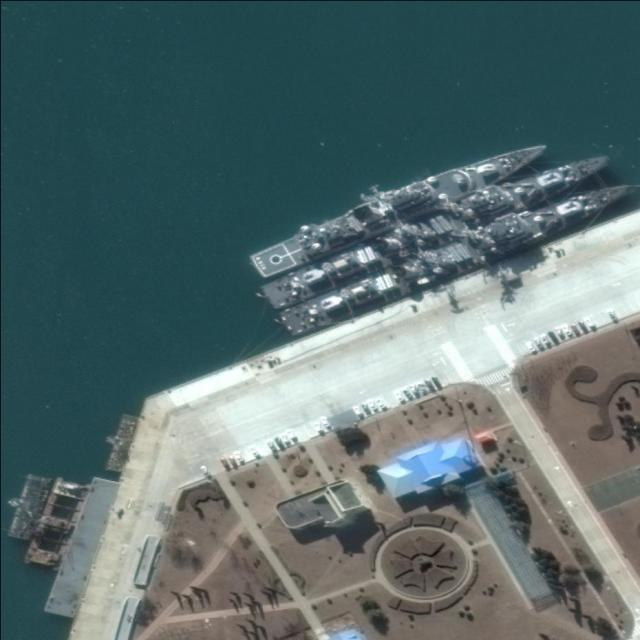Auxiliary Ships: (246, 134, 552, 281)
Destroyer: (279, 173, 635, 341), (260, 149, 614, 311)
